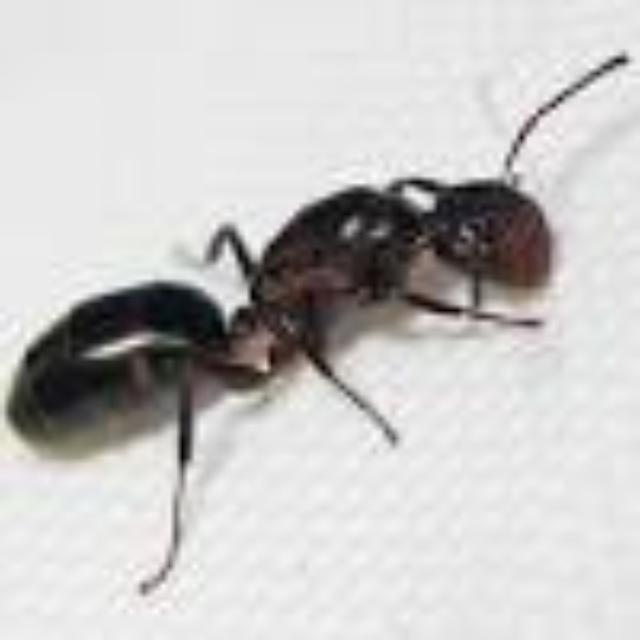Colobopsis: (10, 127, 624, 543)
